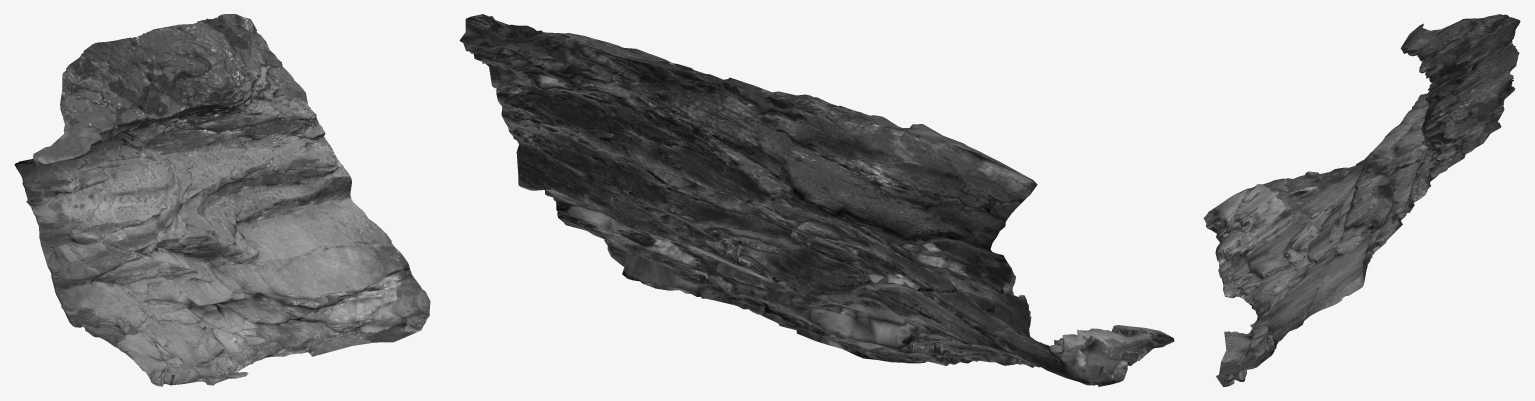
The model's file is rockface.glb.
The picture shows the model from 3 angles, left to right: view 1: azimuth 30°, elevation 25°; view 2: azimuth 150°, elevation 25°; view 3: azimuth 270°, elevation 25°; orthographic projection. The views are drawn at different scales.
Parts seen in each view (by area): view 1: rock_face_01; view 2: rock_face_01; view 3: rock_face_01.
Boxes of the visible parts, left/top/right/bottom form: rock_face_01: left=14, top=14, right=430, bottom=386; rock_face_01: left=459, top=14, right=1174, bottom=386; rock_face_01: left=1203, top=14, right=1520, bottom=386.
Size of the model in its own units: 4.95 by 3.56 by 3.83.
Materials: 1 (1 with a texture image).
